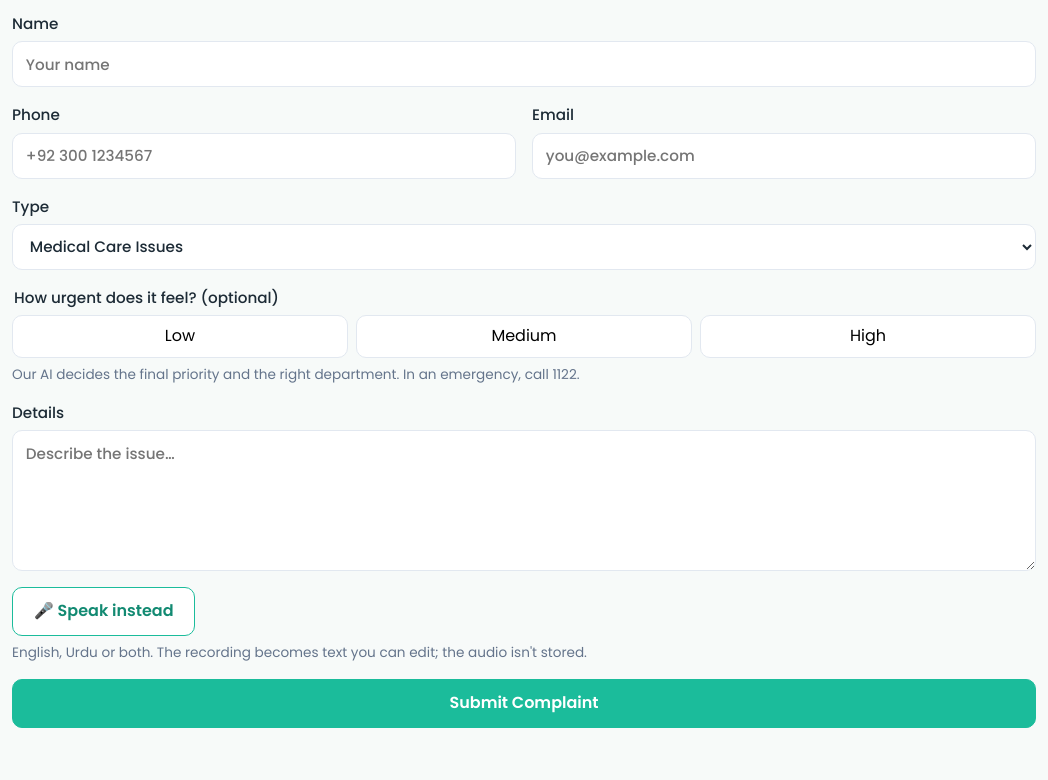
Test: ComplaintForm › submits the form and shows where the complaint went
Type "Test Patient" into the field labelled "Name" at (524, 64), box [12, 41, 1036, 88]
Type "03001234567" into the field labelled "Phone" at (264, 156), box [12, 133, 516, 179]
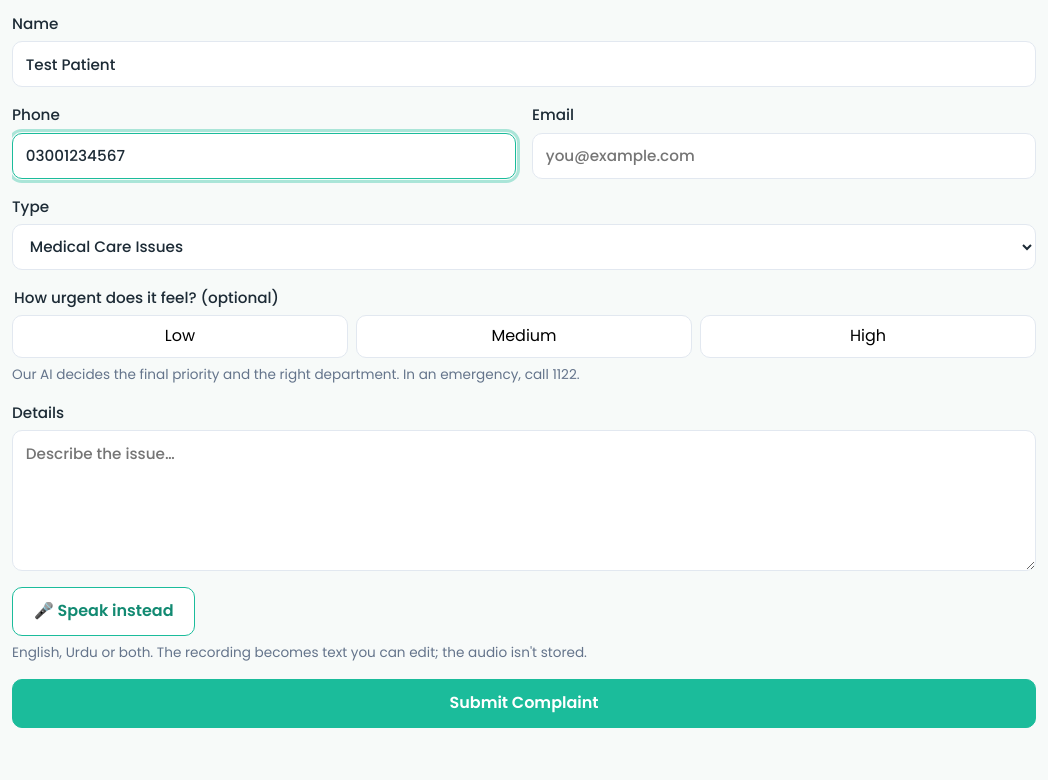
Type "patient@example.test" into the field labelled "Email" at (784, 156), box [532, 133, 1036, 179]
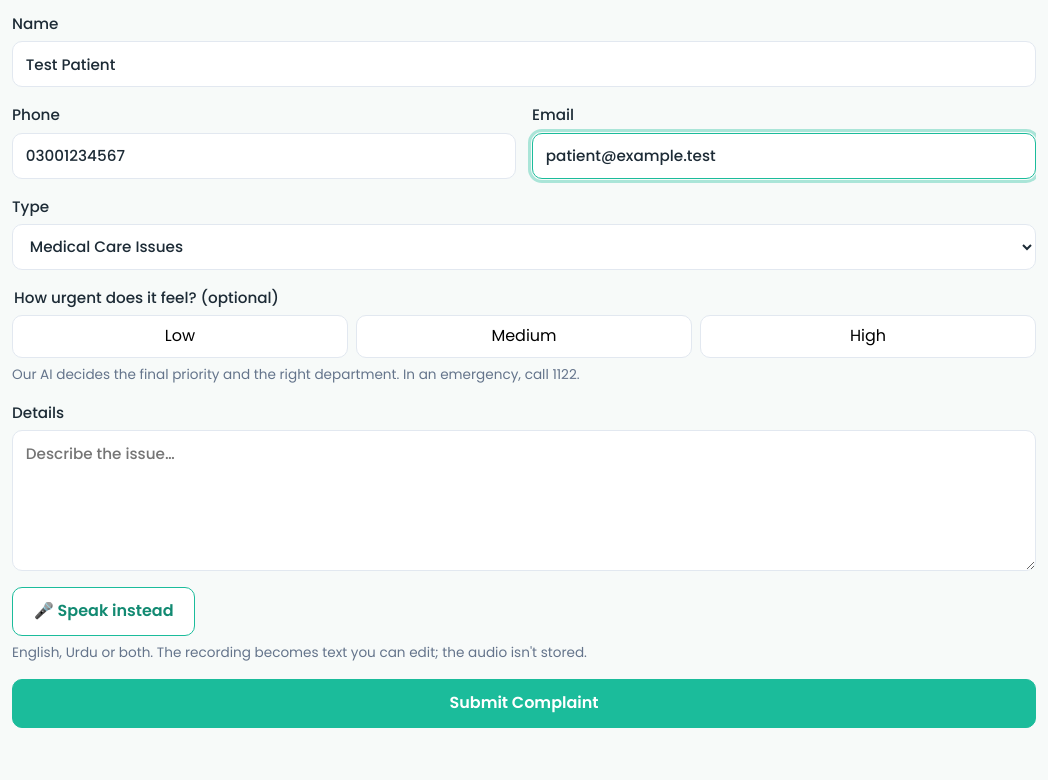
Select "Billing Problems" in the dropdown labelled "Type" at (524, 247), box [12, 224, 1036, 270]
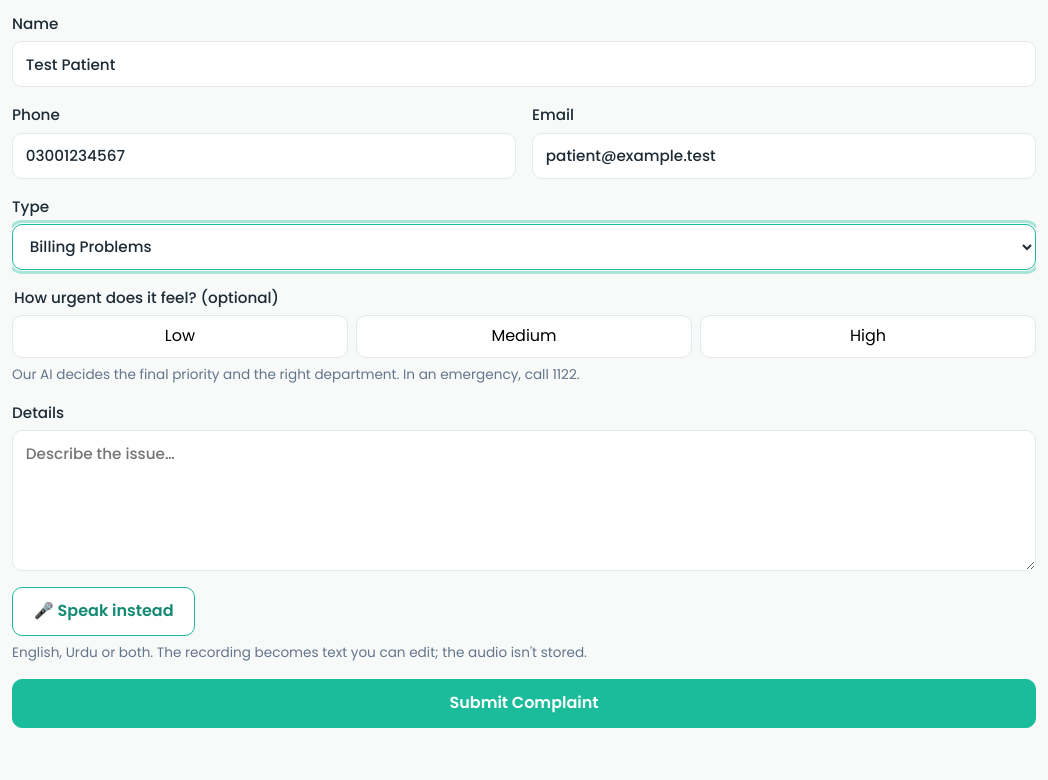
Type "I was charged twice for the same lab test." into the text box labelled "Details" at (524, 501), box [12, 430, 1036, 571]
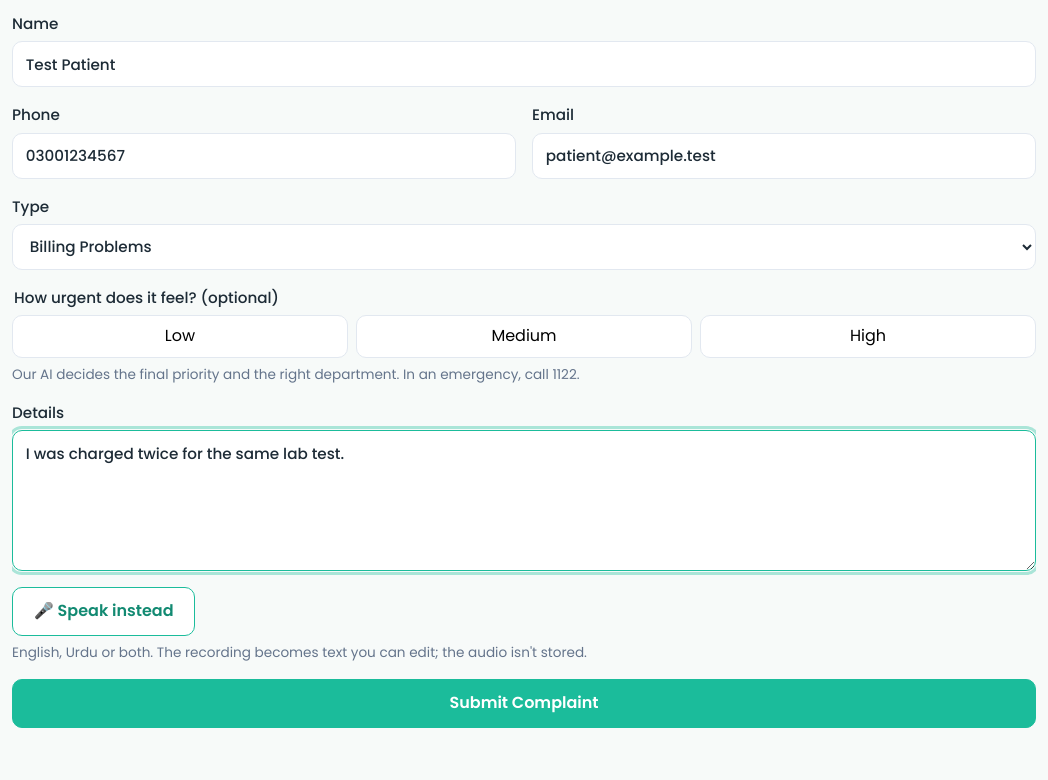
Click the button "High" at (868, 336), box [700, 315, 1036, 358]
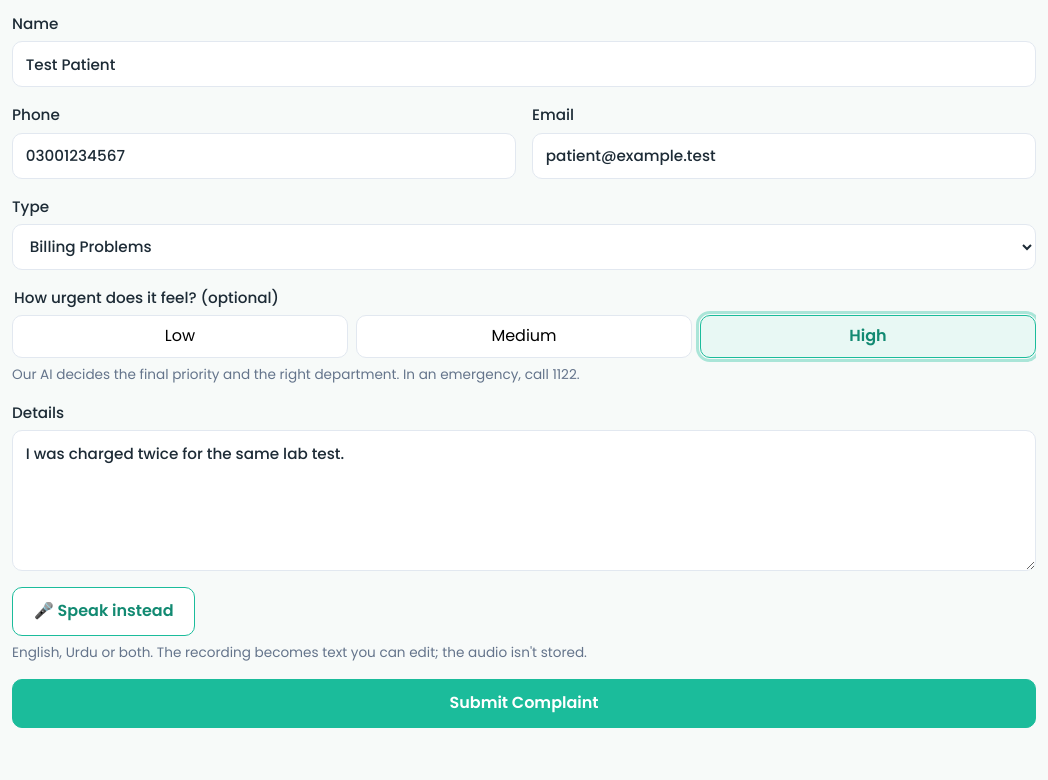
Click the button "Submit Complaint" at (524, 703), box [12, 679, 1036, 728]
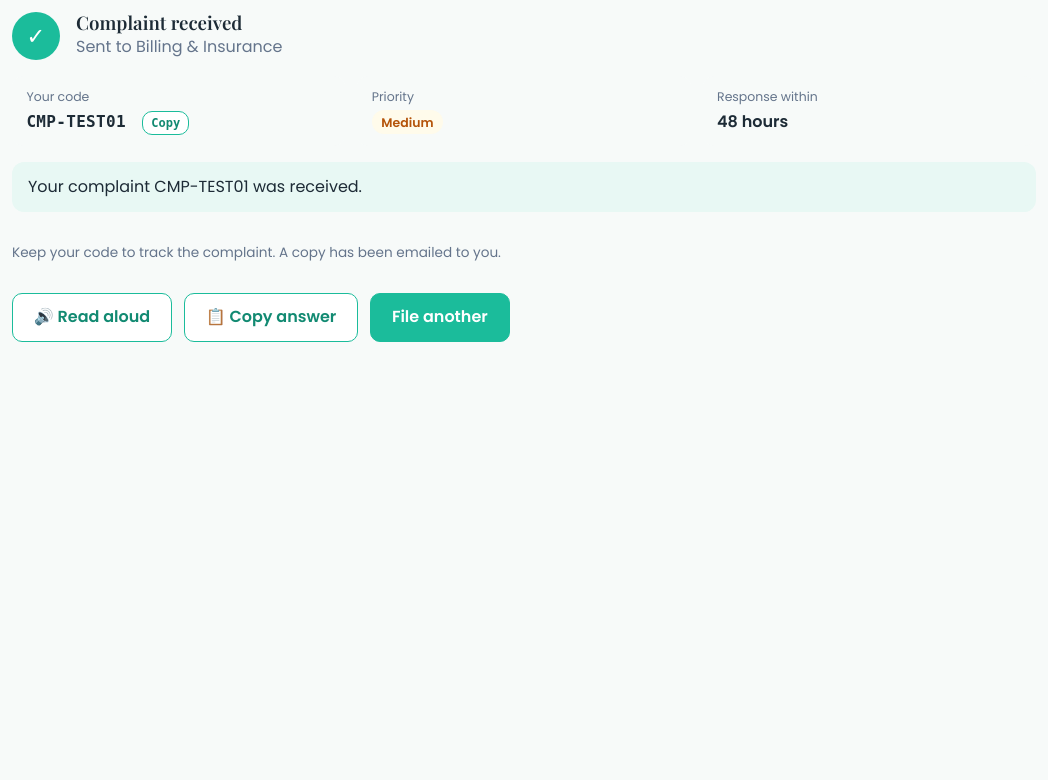
Now the text "Sent to Billing & Insurance" is shown, box [76, 35, 282, 60]
Now the text "CMP-TEST01" is shown, box [26, 112, 126, 131]
Now the text "48 hours" is shown, box [717, 110, 788, 133]
